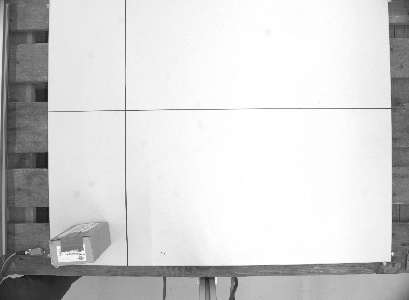b6: (46, 219, 114, 269)
